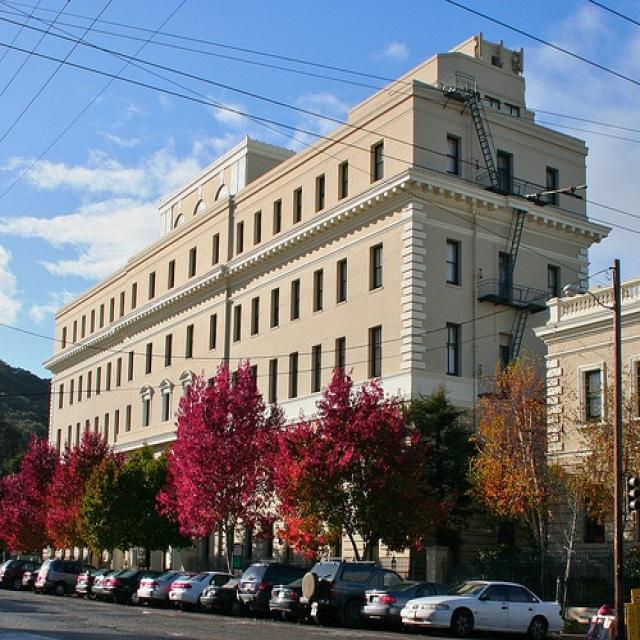car: (399, 578, 566, 638), (302, 558, 403, 630), (362, 578, 453, 634), (232, 563, 297, 618), (169, 566, 225, 609), (137, 564, 189, 604), (34, 551, 76, 598), (200, 569, 243, 613), (267, 576, 306, 616), (100, 566, 141, 600), (75, 562, 105, 598), (92, 566, 110, 598)
